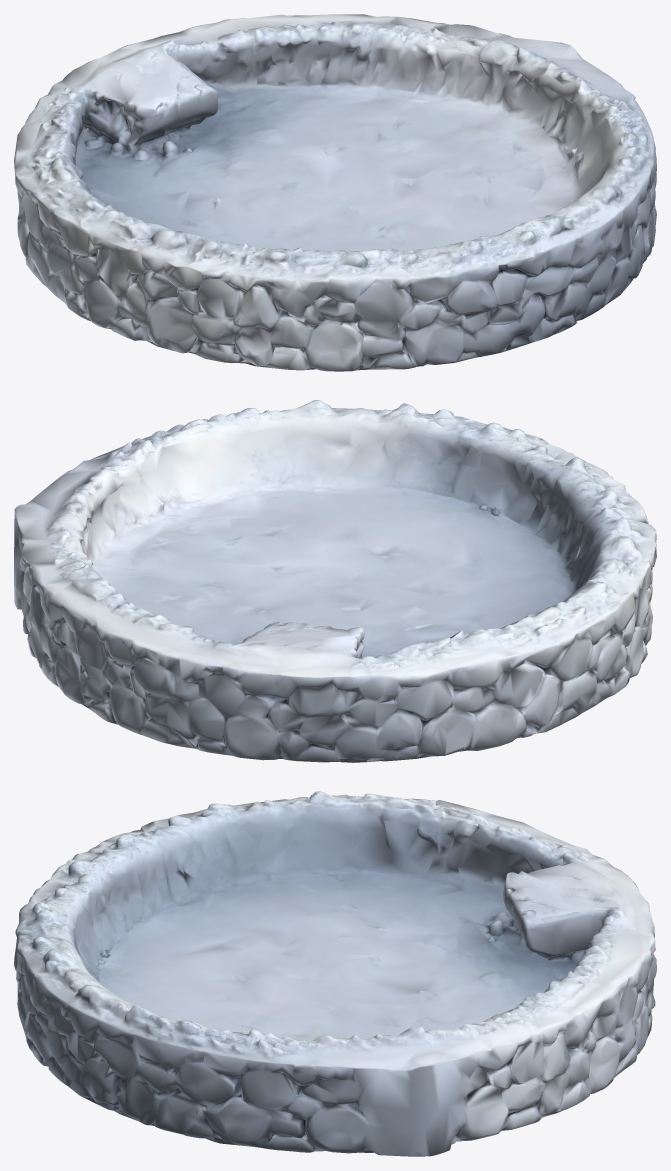
Rendered from huella.glb.
3 views of the same model, one above another, from view 1: azimuth 30°, elevation 25°; view 2: azimuth 150°, elevation 25°; view 3: azimuth 270°, elevation 25° (orthographic).
Parts seen in each view (by area): view 1: tripo_node_ae41b141-7792-4302-bf50-ebd43d2e6bc5; view 2: tripo_node_ae41b141-7792-4302-bf50-ebd43d2e6bc5; view 3: tripo_node_ae41b141-7792-4302-bf50-ebd43d2e6bc5.
Boxes of the visible parts, <box> form: tripo_node_ae41b141-7792-4302-bf50-ebd43d2e6bc5: <box>14,14,656,371</box>; tripo_node_ae41b141-7792-4302-bf50-ebd43d2e6bc5: <box>14,400,656,762</box>; tripo_node_ae41b141-7792-4302-bf50-ebd43d2e6bc5: <box>14,791,656,1156</box>.
Size of the model in its own units: 0.9993 by 0.1825 by 0.9989.
1 material, 1 textured.
